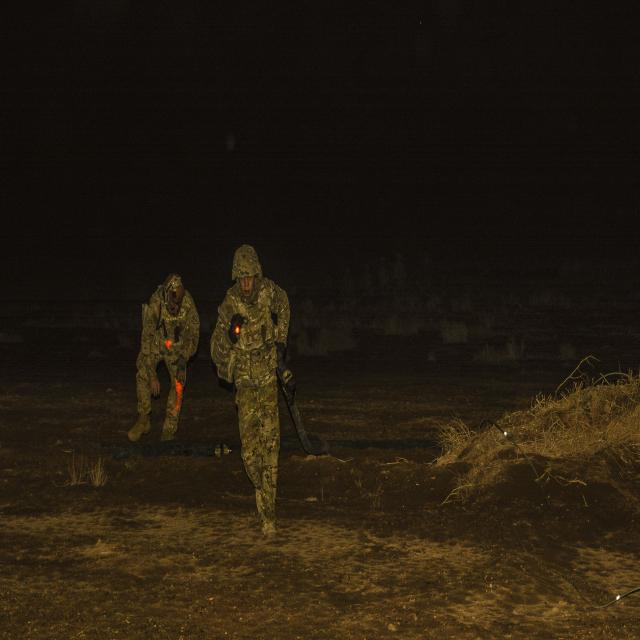Forest: (1, 0, 640, 640)
Militant: (210, 238, 310, 551), (129, 235, 207, 462)
